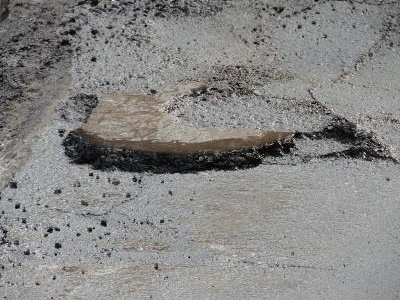pothole: (56, 80, 303, 177), (309, 112, 396, 163)
